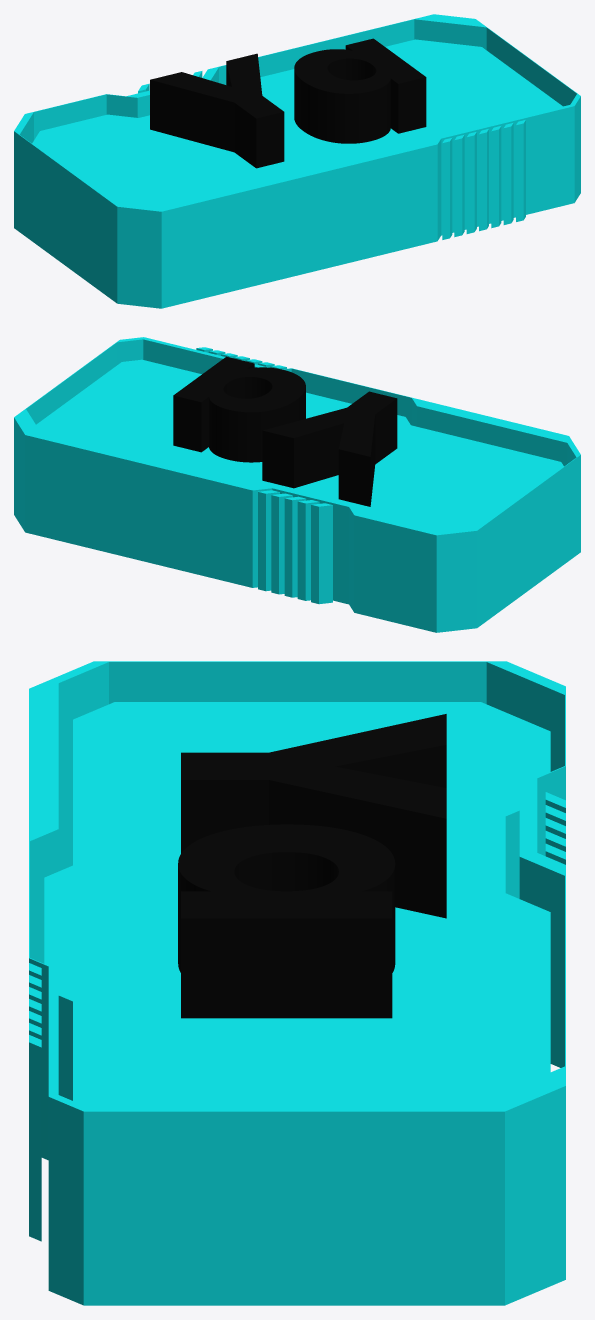
The model's file is 17.HurufYa.glb.
The picture shows the model from 3 angles, top to bottom: view 1: azimuth 30°, elevation 25°; view 2: azimuth 150°, elevation 25°; view 3: azimuth 270°, elevation 25°; orthographic projection. The views are drawn at different scales.
Parts seen in each view (by area): view 1: Curve.281, Curve.275, Curve.290, Curve.289, Curve.282, Curve.284, Curve.287, Curve.283, Curve.286, Curve.285, Curve.288; view 2: Curve.281, Curve.275, Curve.290, Curve.289, Curve.280, Curve.278, Curve.279, Curve.276, Curve.277; view 3: Curve.281, Curve.275, Curve.290, Curve.289, Curve.288.
Part boxes in pixels (x1,y1,x2,y2): Curve.281: (14,14,580,308); Curve.275: (32,39,562,207); Curve.290: (294,38,426,143); Curve.289: (150,53,284,168); Curve.282: (442,138,452,239); Curve.284: (466,131,476,233); Curve.287: (503,123,513,224); Curve.283: (454,135,464,237); Curve.286: (491,126,501,228); Curve.285: (479,129,488,231); Curve.288: (516,120,525,221); Curve.281: (14,337,580,632); Curve.275: (36,359,563,532); Curve.290: (173,356,305,462); Curve.289: (262,391,397,506); Curve.280: (311,503,332,604); Curve.278: (284,496,306,597); Curve.279: (297,500,319,600); Curve.276: (258,490,279,591); Curve.277: (271,493,292,594); Curve.281: (29,661,565,1305); Curve.275: (44,702,550,1110); Curve.290: (178,824,395,1018); Curve.289: (181,714,446,918); Curve.288: (29,1035,41,1241).
Size of the model in its own units: 0.2966 by 0.0798 by 0.1496.
